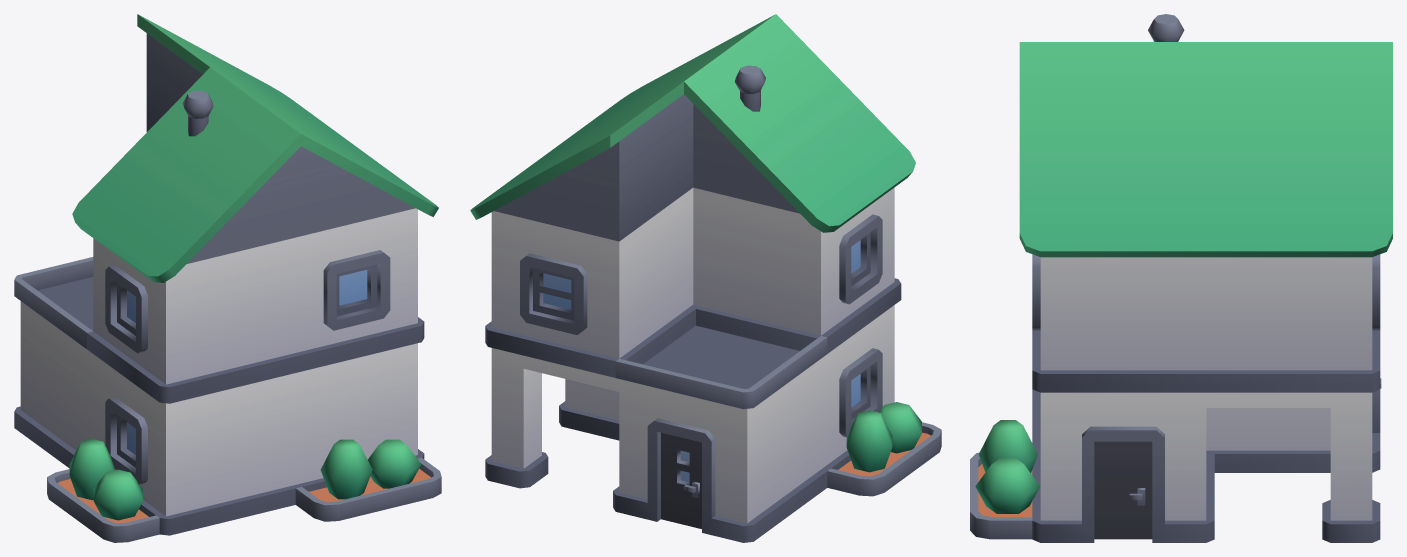
File: house-r.glb
3 renders of one model, left to right at view 1: azimuth 30°, elevation 25°; view 2: azimuth 150°, elevation 25°; view 3: azimuth 270°, elevation 25°, orthographic. The views are drawn at different scales.
Visible parts, largest first — view 1: building-type-r; view 2: building-type-r; view 3: building-type-r.
Part boxes in pixels (<box>): building-type-r: <box>14,14,441,542</box>; building-type-r: <box>470,14,941,542</box>; building-type-r: <box>970,14,1392,542</box>.
Size of the model in its own units: 1.03 by 1.14 by 1.02.
1 material, 1 textured.
